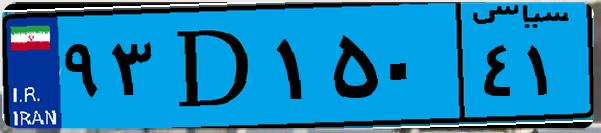0: (385, 28, 445, 110)
1: (270, 28, 330, 110), (525, 38, 570, 115)
3: (110, 28, 158, 98)
4: (475, 38, 525, 113)
5: (330, 28, 385, 110)
9: (57, 26, 110, 100)
D: (158, 12, 270, 120)
